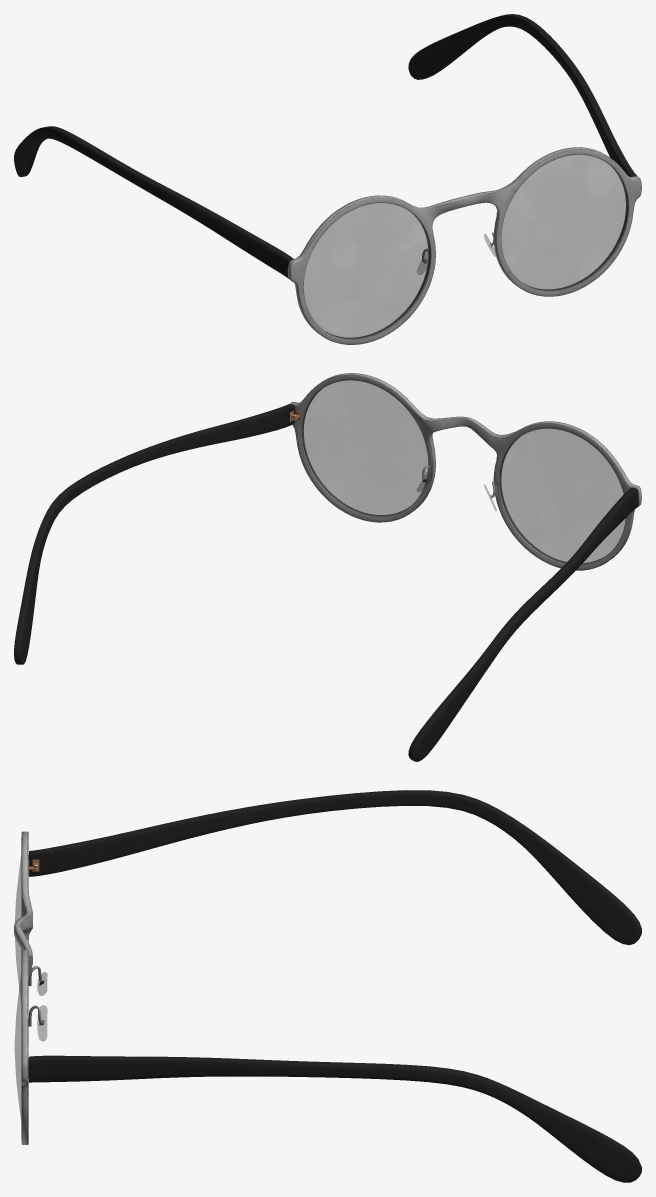
File: round_spectacles.glb
The picture shows the model from 3 angles, top to bottom: view 1: azimuth 30°, elevation 25°; view 2: azimuth 150°, elevation 25°; view 3: azimuth 270°, elevation 25°; orthographic projection. The views are drawn at different scales.
Parts seen in each view (by area): view 1: round_spectacles; view 2: round_spectacles; view 3: round_spectacles.
Part boxes in pixels (x1,y1,x2,y2): round_spectacles: (14, 14, 641, 344); round_spectacles: (14, 373, 641, 761); round_spectacles: (14, 790, 641, 1182).
Size of the model in its own units: 0.1578 by 0.0463 by 0.149.
2 materials, 2 textured.
